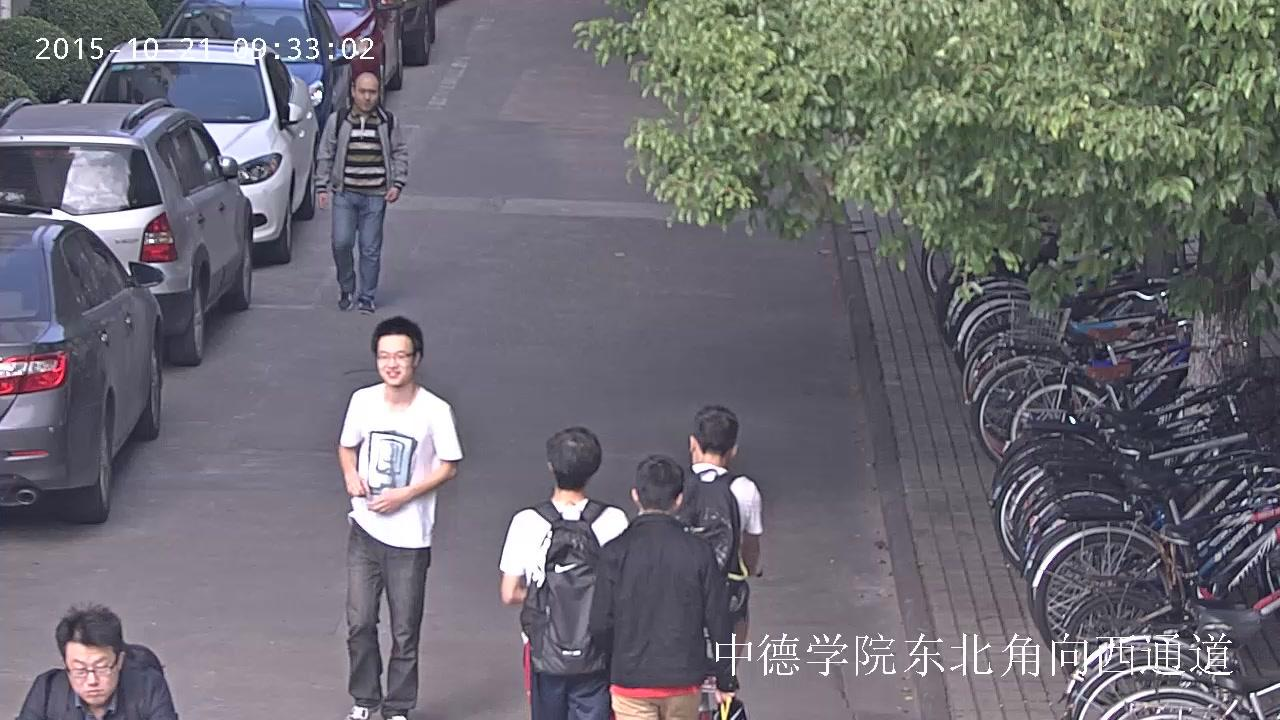person: (337, 316, 462, 720), (587, 452, 737, 720), (497, 425, 629, 720), (664, 402, 764, 720), (665, 403, 763, 690), (313, 71, 409, 314), (12, 605, 177, 720)
